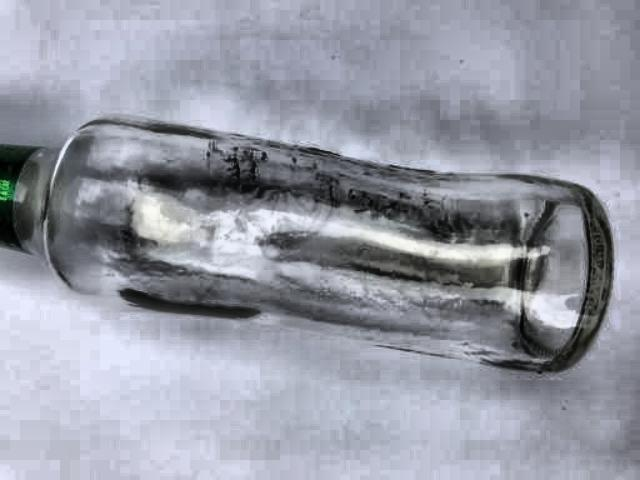Bottles: (0, 116, 640, 388)
